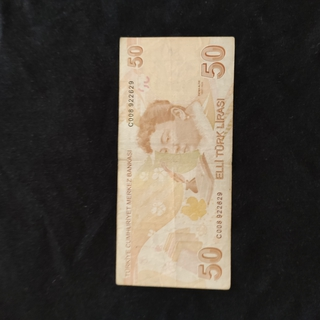50TLBack: (114, 36, 235, 290)
